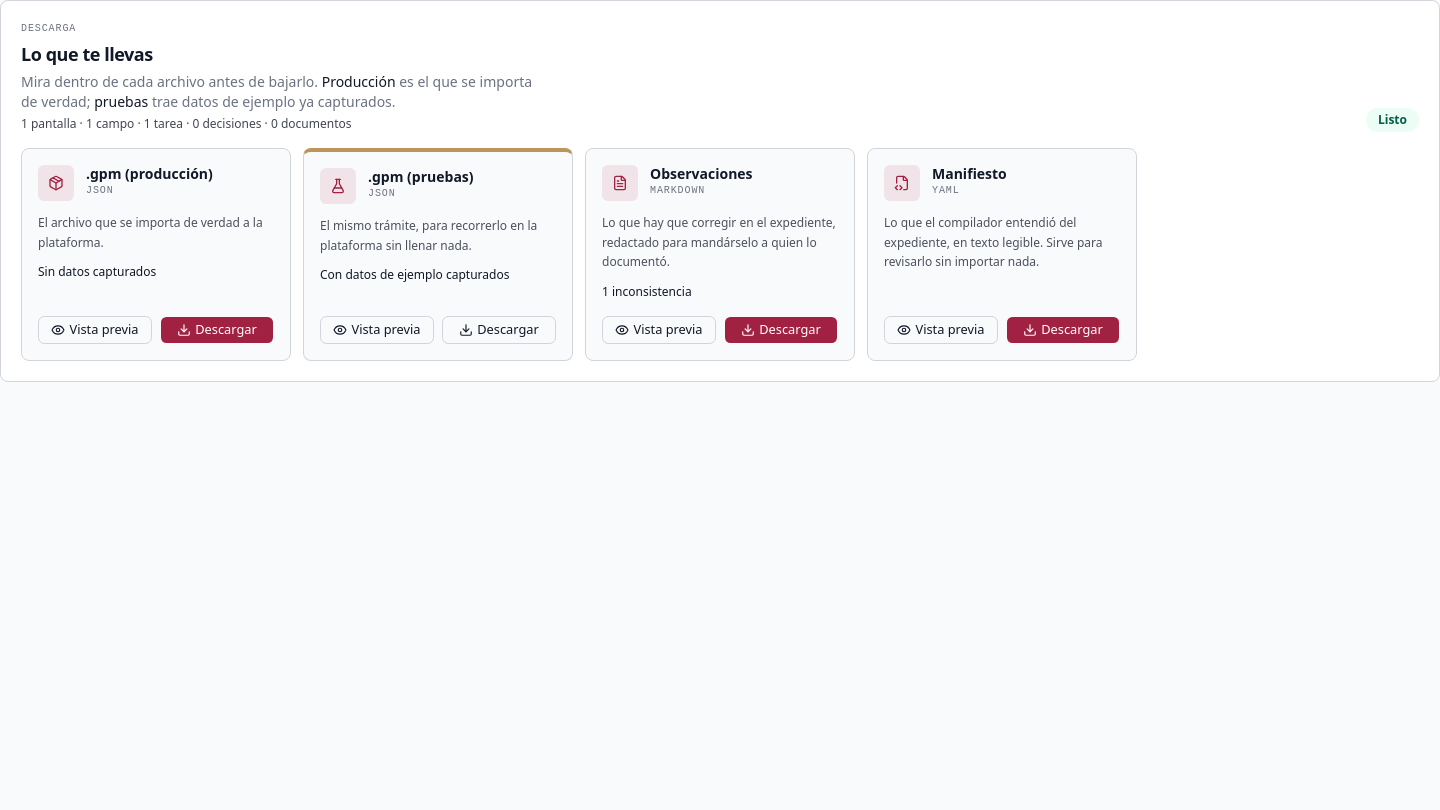
Scenario: si el archivo no se puede leer lo dice, no deja la ventana en blanco
Click the button with aria-label "vista previa de .gpm (pruebas)" at (377, 330), box x1=320 y1=316 x2=434 y2=344
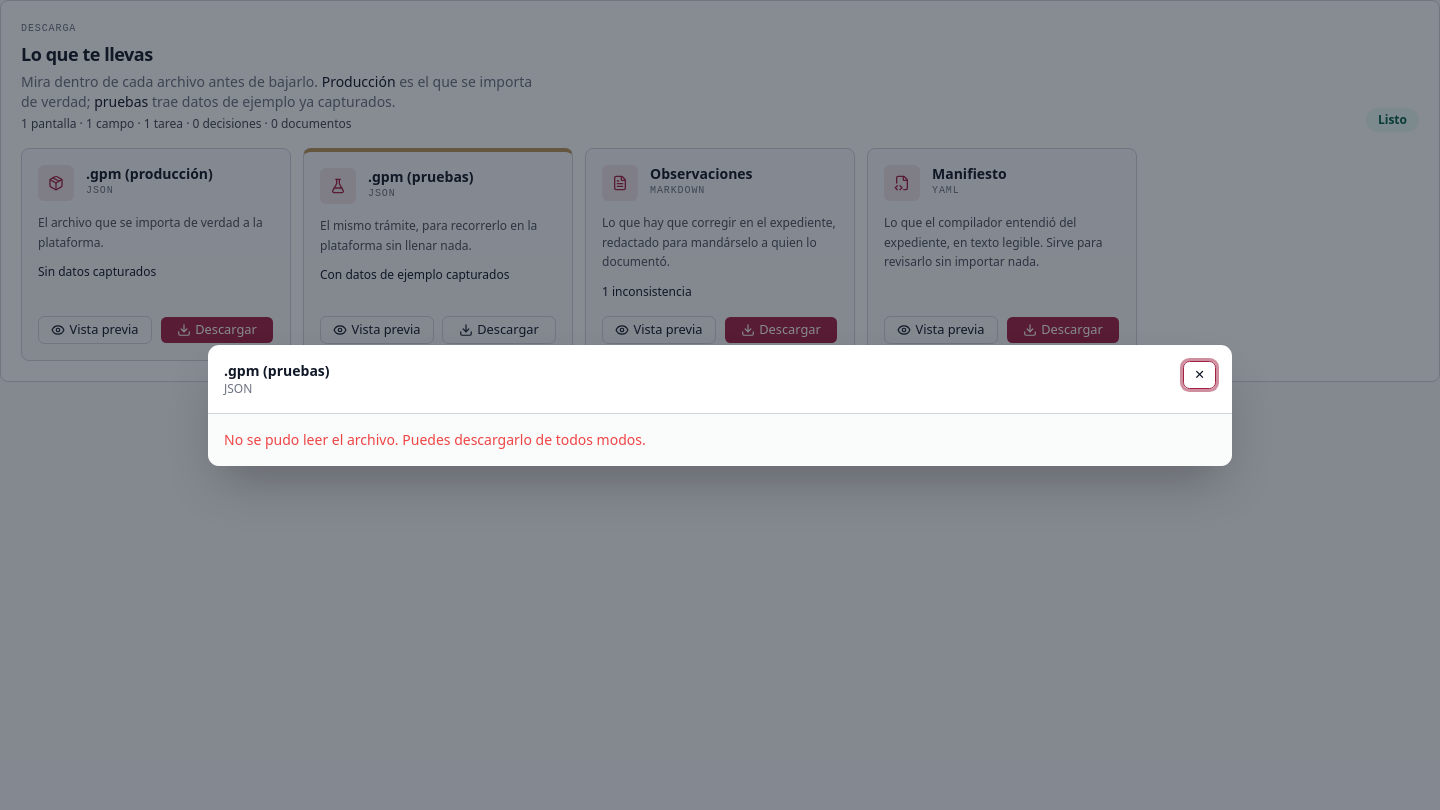
expect the message shows "No se pudo": met, box x1=224 y1=430 x2=646 y2=448
